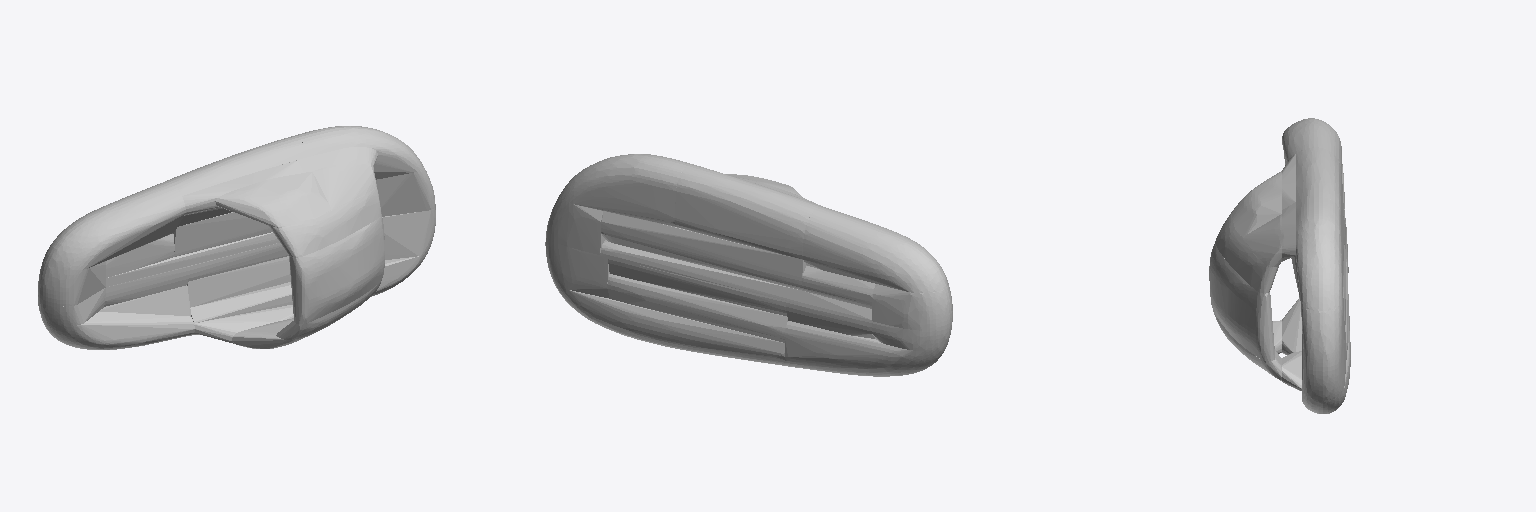
The model's file is coacd_collision.obj.
3 views of the same model, side by side, from view 1: azimuth 30°, elevation 25°; view 2: azimuth 150°, elevation 25°; view 3: azimuth 270°, elevation 25° (orthographic).
Visible parts, largest first — view 1: geometry_4, geometry_1, geometry_3, geometry_9, geometry_23, geometry_0, geometry_19, geometry_10, geometry_22, geometry_25, geometry_8, geometry_15 (+13 smaller); view 2: geometry_23, geometry_4, geometry_10, geometry_25, geometry_19, geometry_11, geometry_22, geometry_16, geometry_8, geometry_26, geometry_15, geometry_13 (+3 smaller); view 3: geometry_19, geometry_1, geometry_23, geometry_13, geometry_0, geometry_3, geometry_15, geometry_4, geometry_2, geometry_21, geometry_10, geometry_17 (+3 smaller).
Boxes of the visible parts, x1,y1,x2,y2 form: geometry_4: [44, 181, 185, 269]; geometry_1: [289, 216, 384, 324]; geometry_3: [215, 172, 331, 227]; geometry_9: [49, 312, 194, 349]; geometry_23: [167, 136, 308, 226]; geometry_0: [268, 187, 381, 257]; geometry_19: [295, 126, 422, 179]; geometry_10: [190, 253, 427, 335]; geometry_22: [187, 256, 290, 307]; geometry_25: [173, 212, 272, 256]; geometry_8: [38, 259, 105, 306]; geometry_15: [382, 207, 435, 259]; geometry_23: [675, 164, 822, 259]; geometry_4: [803, 207, 947, 292]; geometry_10: [554, 283, 790, 366]; geometry_25: [601, 211, 806, 290]; geometry_19: [560, 154, 690, 226]; geometry_11: [785, 321, 947, 376]; geometry_22: [607, 274, 787, 342]; geometry_16: [600, 240, 871, 320]; geometry_8: [872, 283, 952, 330]; geometry_26: [608, 258, 786, 315]; geometry_15: [545, 237, 609, 298]; geometry_13: [546, 195, 605, 254]; geometry_19: [1296, 197, 1343, 310]; geometry_1: [1209, 244, 1274, 360]; geometry_23: [1296, 147, 1343, 237]; geometry_13: [1301, 298, 1344, 360]; geometry_0: [1215, 212, 1278, 293]; geometry_3: [1232, 171, 1281, 237]; geometry_15: [1303, 332, 1346, 400]; geometry_4: [1282, 118, 1341, 170]; geometry_2: [1243, 214, 1281, 266]; geometry_21: [1282, 297, 1301, 354]; geometry_10: [1302, 294, 1350, 413]; geometry_17: [1282, 202, 1295, 261].
Bounding box in the file's own units: 264 × 114 × 81.12.